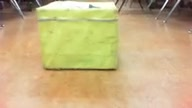cube: (35, 1, 118, 70)
